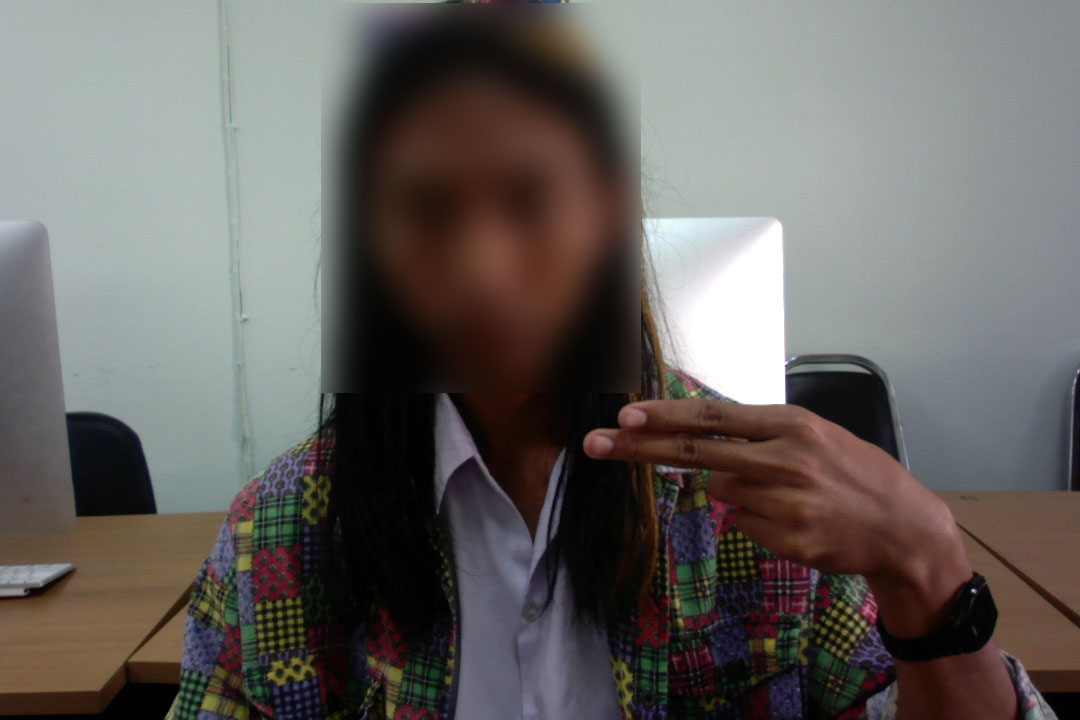hor: (573, 390, 967, 586)
